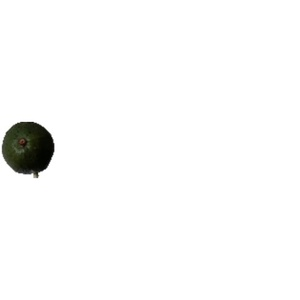abacate: (2, 120, 57, 175)
